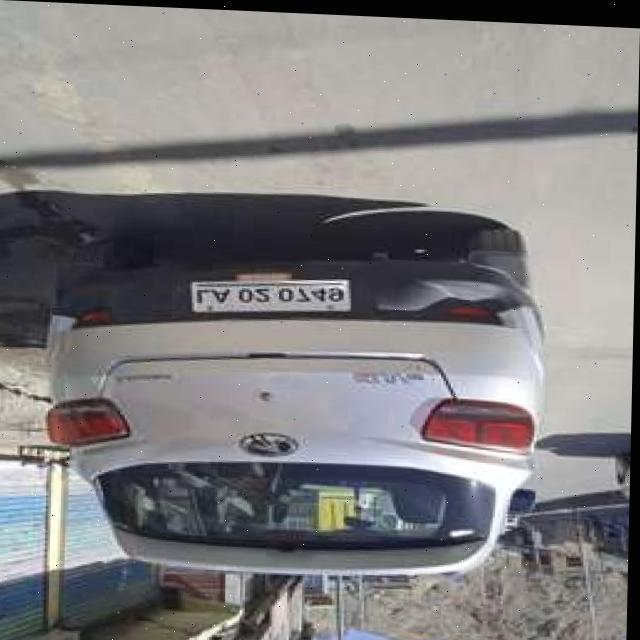plate: (188, 271, 353, 319)
